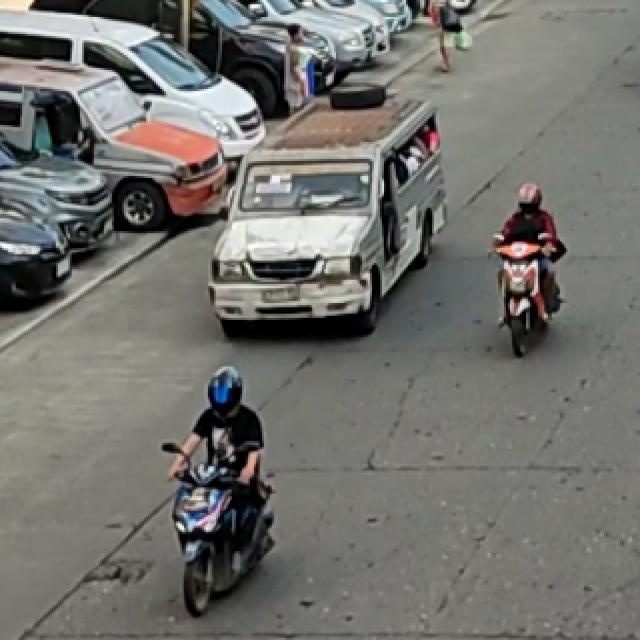Motorcycle: (165, 372, 272, 600), (490, 181, 580, 357)
